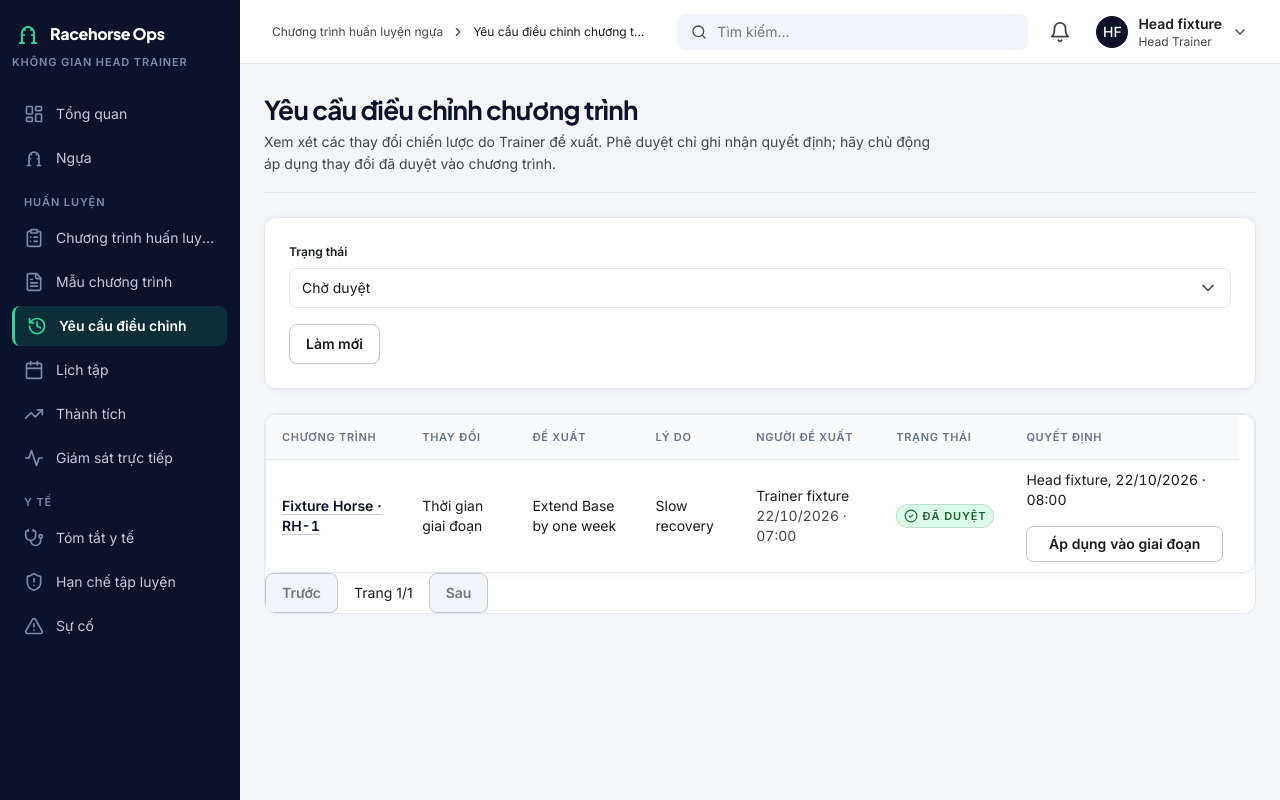
Test: Head Trainer applies an approved request to the phases with the request id
This screenshot has width=1280, height=800.
Click the button "Áp dụng vào giai đoạn" at (1125, 544), box [1026, 526, 1223, 562]
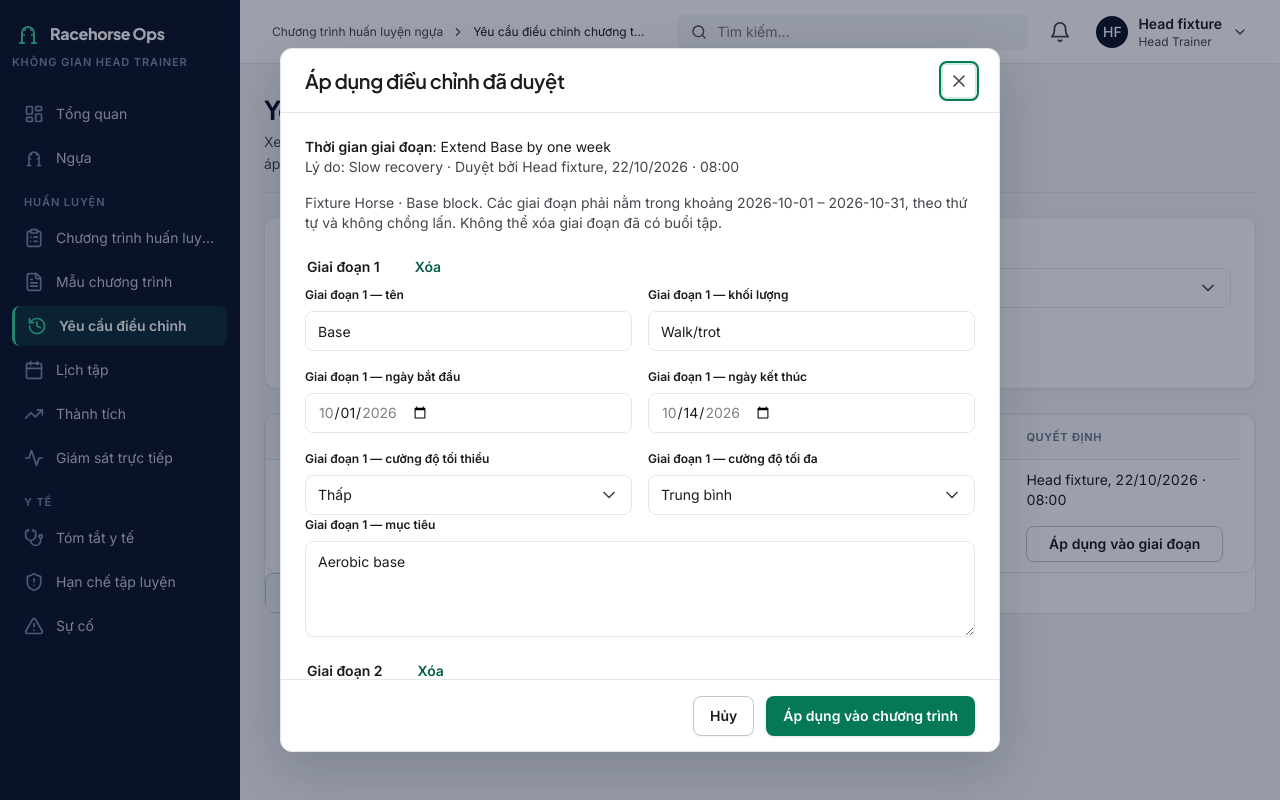
Type "2026-10-21" into the date field labelled "Giai đoạn 1 — ngày kết thúc" at (812, 413), box [648, 393, 975, 433]
(page scrolled)
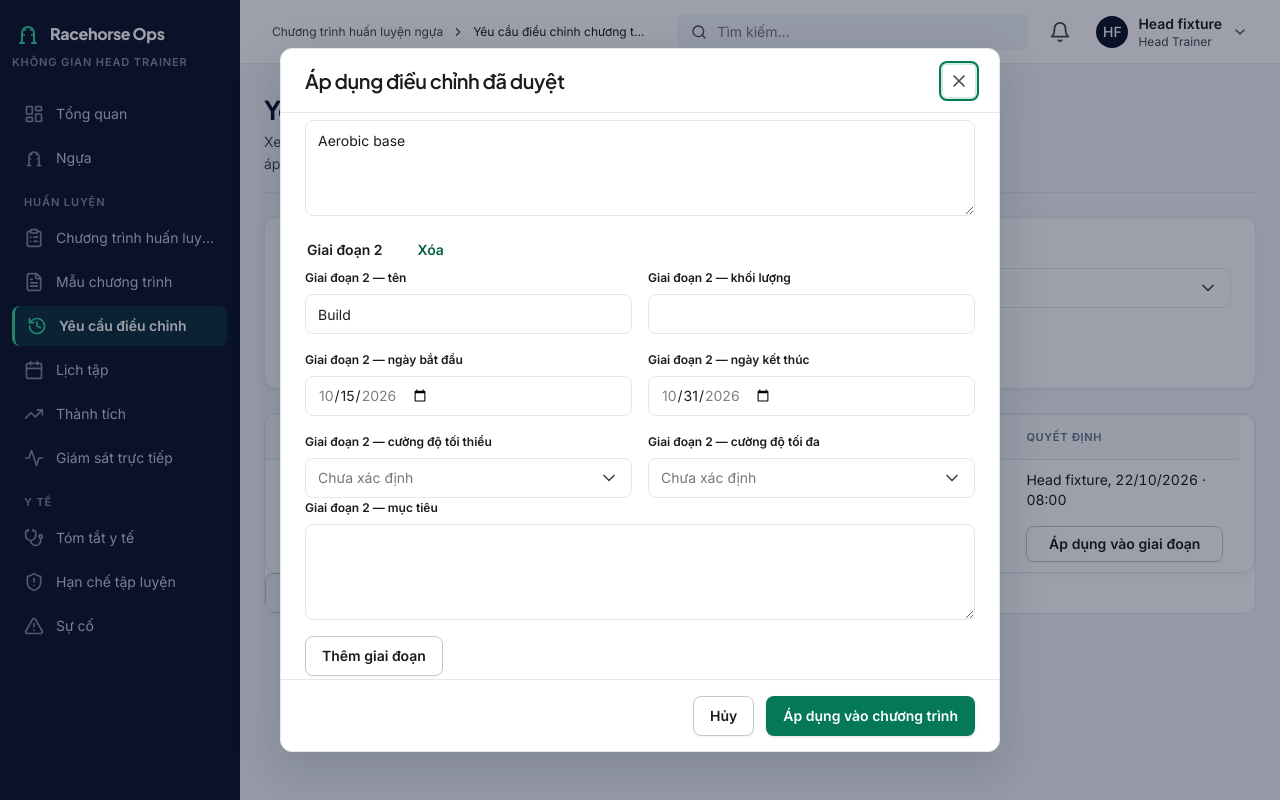
Type "2026-10-22" into the date field labelled "Giai đoạn 2 — ngày bắt đầu" at (468, 396), box [305, 376, 632, 416]
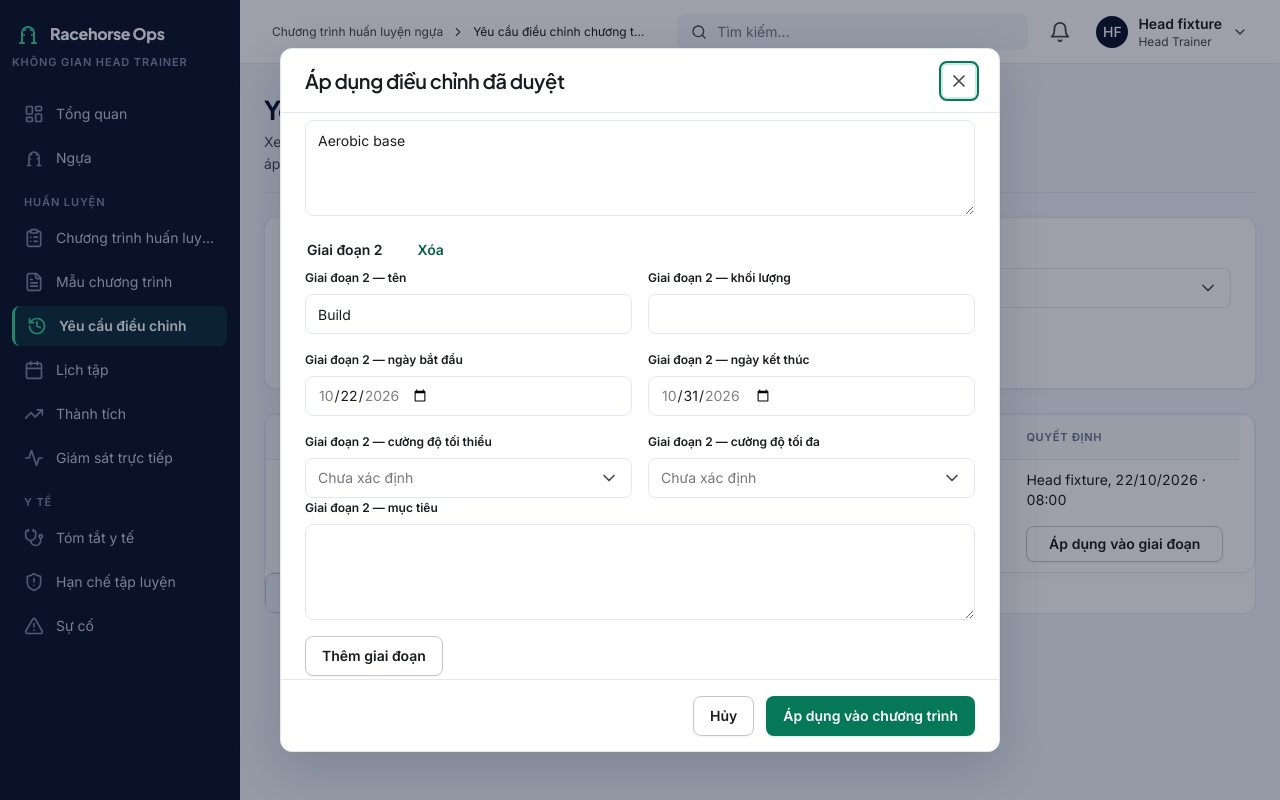
Click the button "Áp dụng vào chương trình" at (871, 716), box [766, 696, 975, 736]
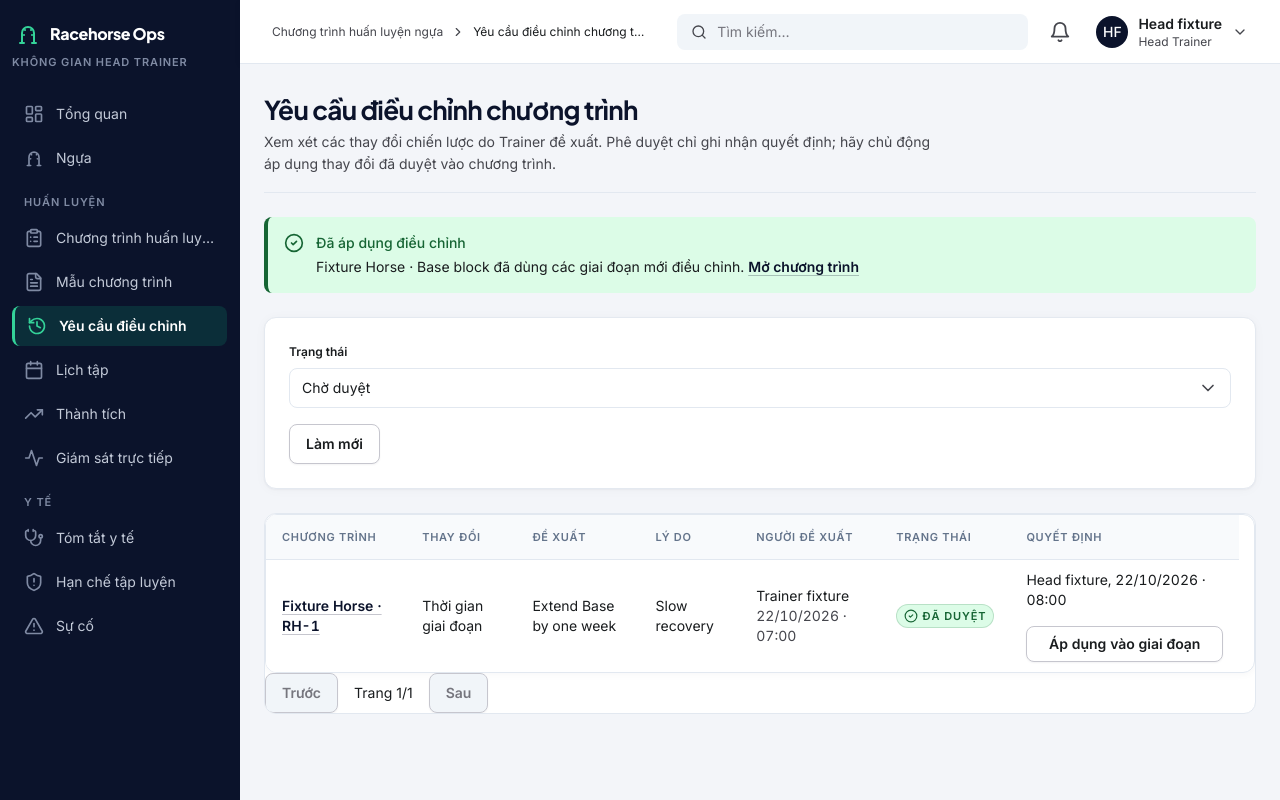
Expected: the text "Đã áp dụng điều chỉnh" is shown, [316, 234, 466, 251]
